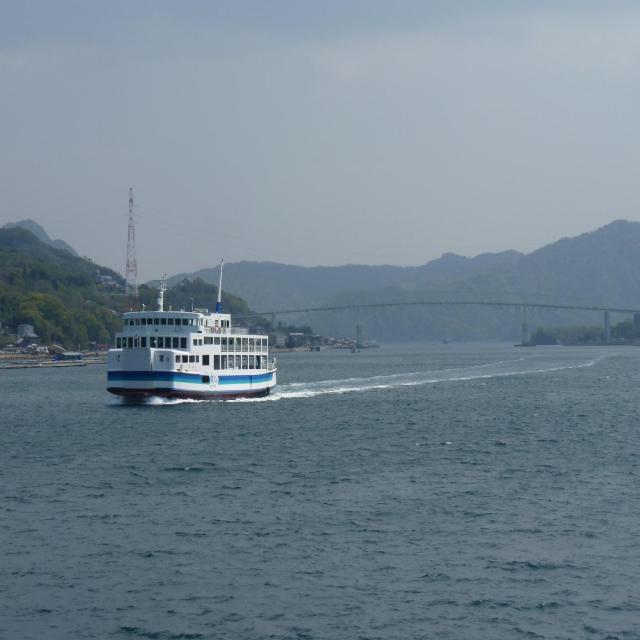houseboat: (98, 269, 279, 411)
